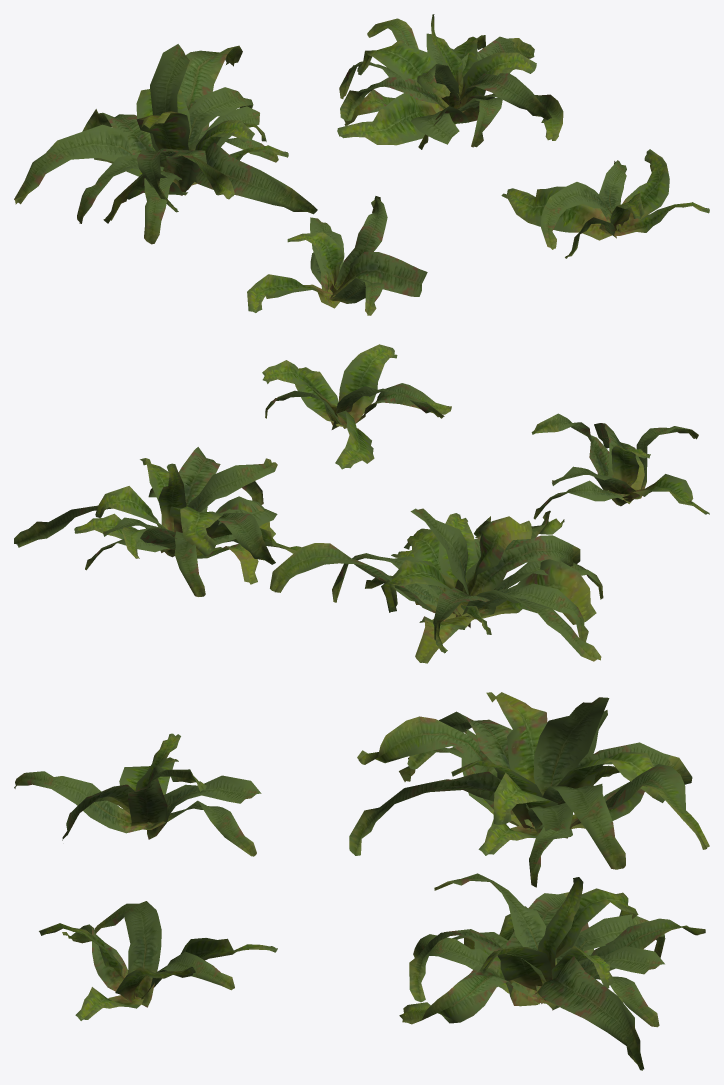
The model's file is fern_02.glb.
The picture shows the model from 3 angles, top to bottom: view 1: azimuth 30°, elevation 25°; view 2: azimuth 150°, elevation 25°; view 3: azimuth 270°, elevation 25°; orthographic projection. The views are drawn at different scales.
Parts seen in each view (by area): view 1: fern_02_b, fern_02_c, fern_02_d, fern_02_a; view 2: fern_02_b, fern_02_c, fern_02_d, fern_02_a; view 3: fern_02_b, fern_02_c, fern_02_a, fern_02_d.
Boxes of the visible parts, left/top/right/bottom form: fern_02_b: left=14, top=44, right=317, bottom=244; fern_02_c: left=337, top=14, right=563, bottom=149; fern_02_d: left=501, top=149, right=709, bottom=258; fern_02_a: left=247, top=196, right=427, bottom=315; fern_02_b: left=270, top=508, right=603, bottom=663; fern_02_c: left=14, top=447, right=301, bottom=596; fern_02_d: left=262, top=344, right=451, bottom=469; fern_02_a: left=531, top=413, right=709, bottom=519; fern_02_b: left=349, top=692, right=709, bottom=887; fern_02_c: left=399, top=873, right=705, bottom=1070; fern_02_a: left=14, top=733, right=261, bottom=856; fern_02_d: left=39, top=901, right=277, bottom=1020.
Bounding box in the file's own units: 1.97 × 0.4277 × 1.72.
1 material, 1 textured.
